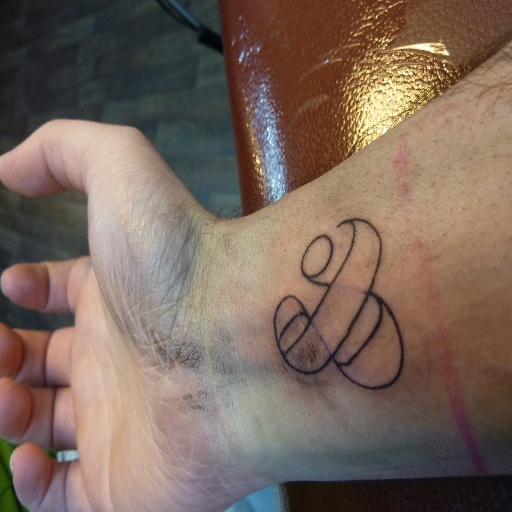hand: (0, 116, 220, 511)
